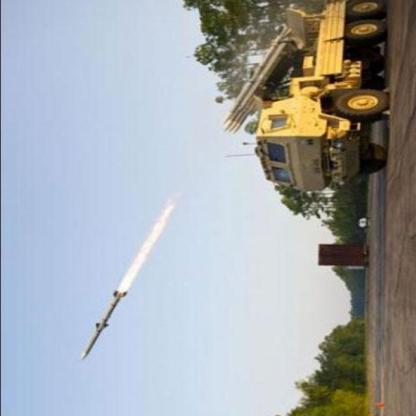MIL_TBM: (76, 287, 130, 360)
